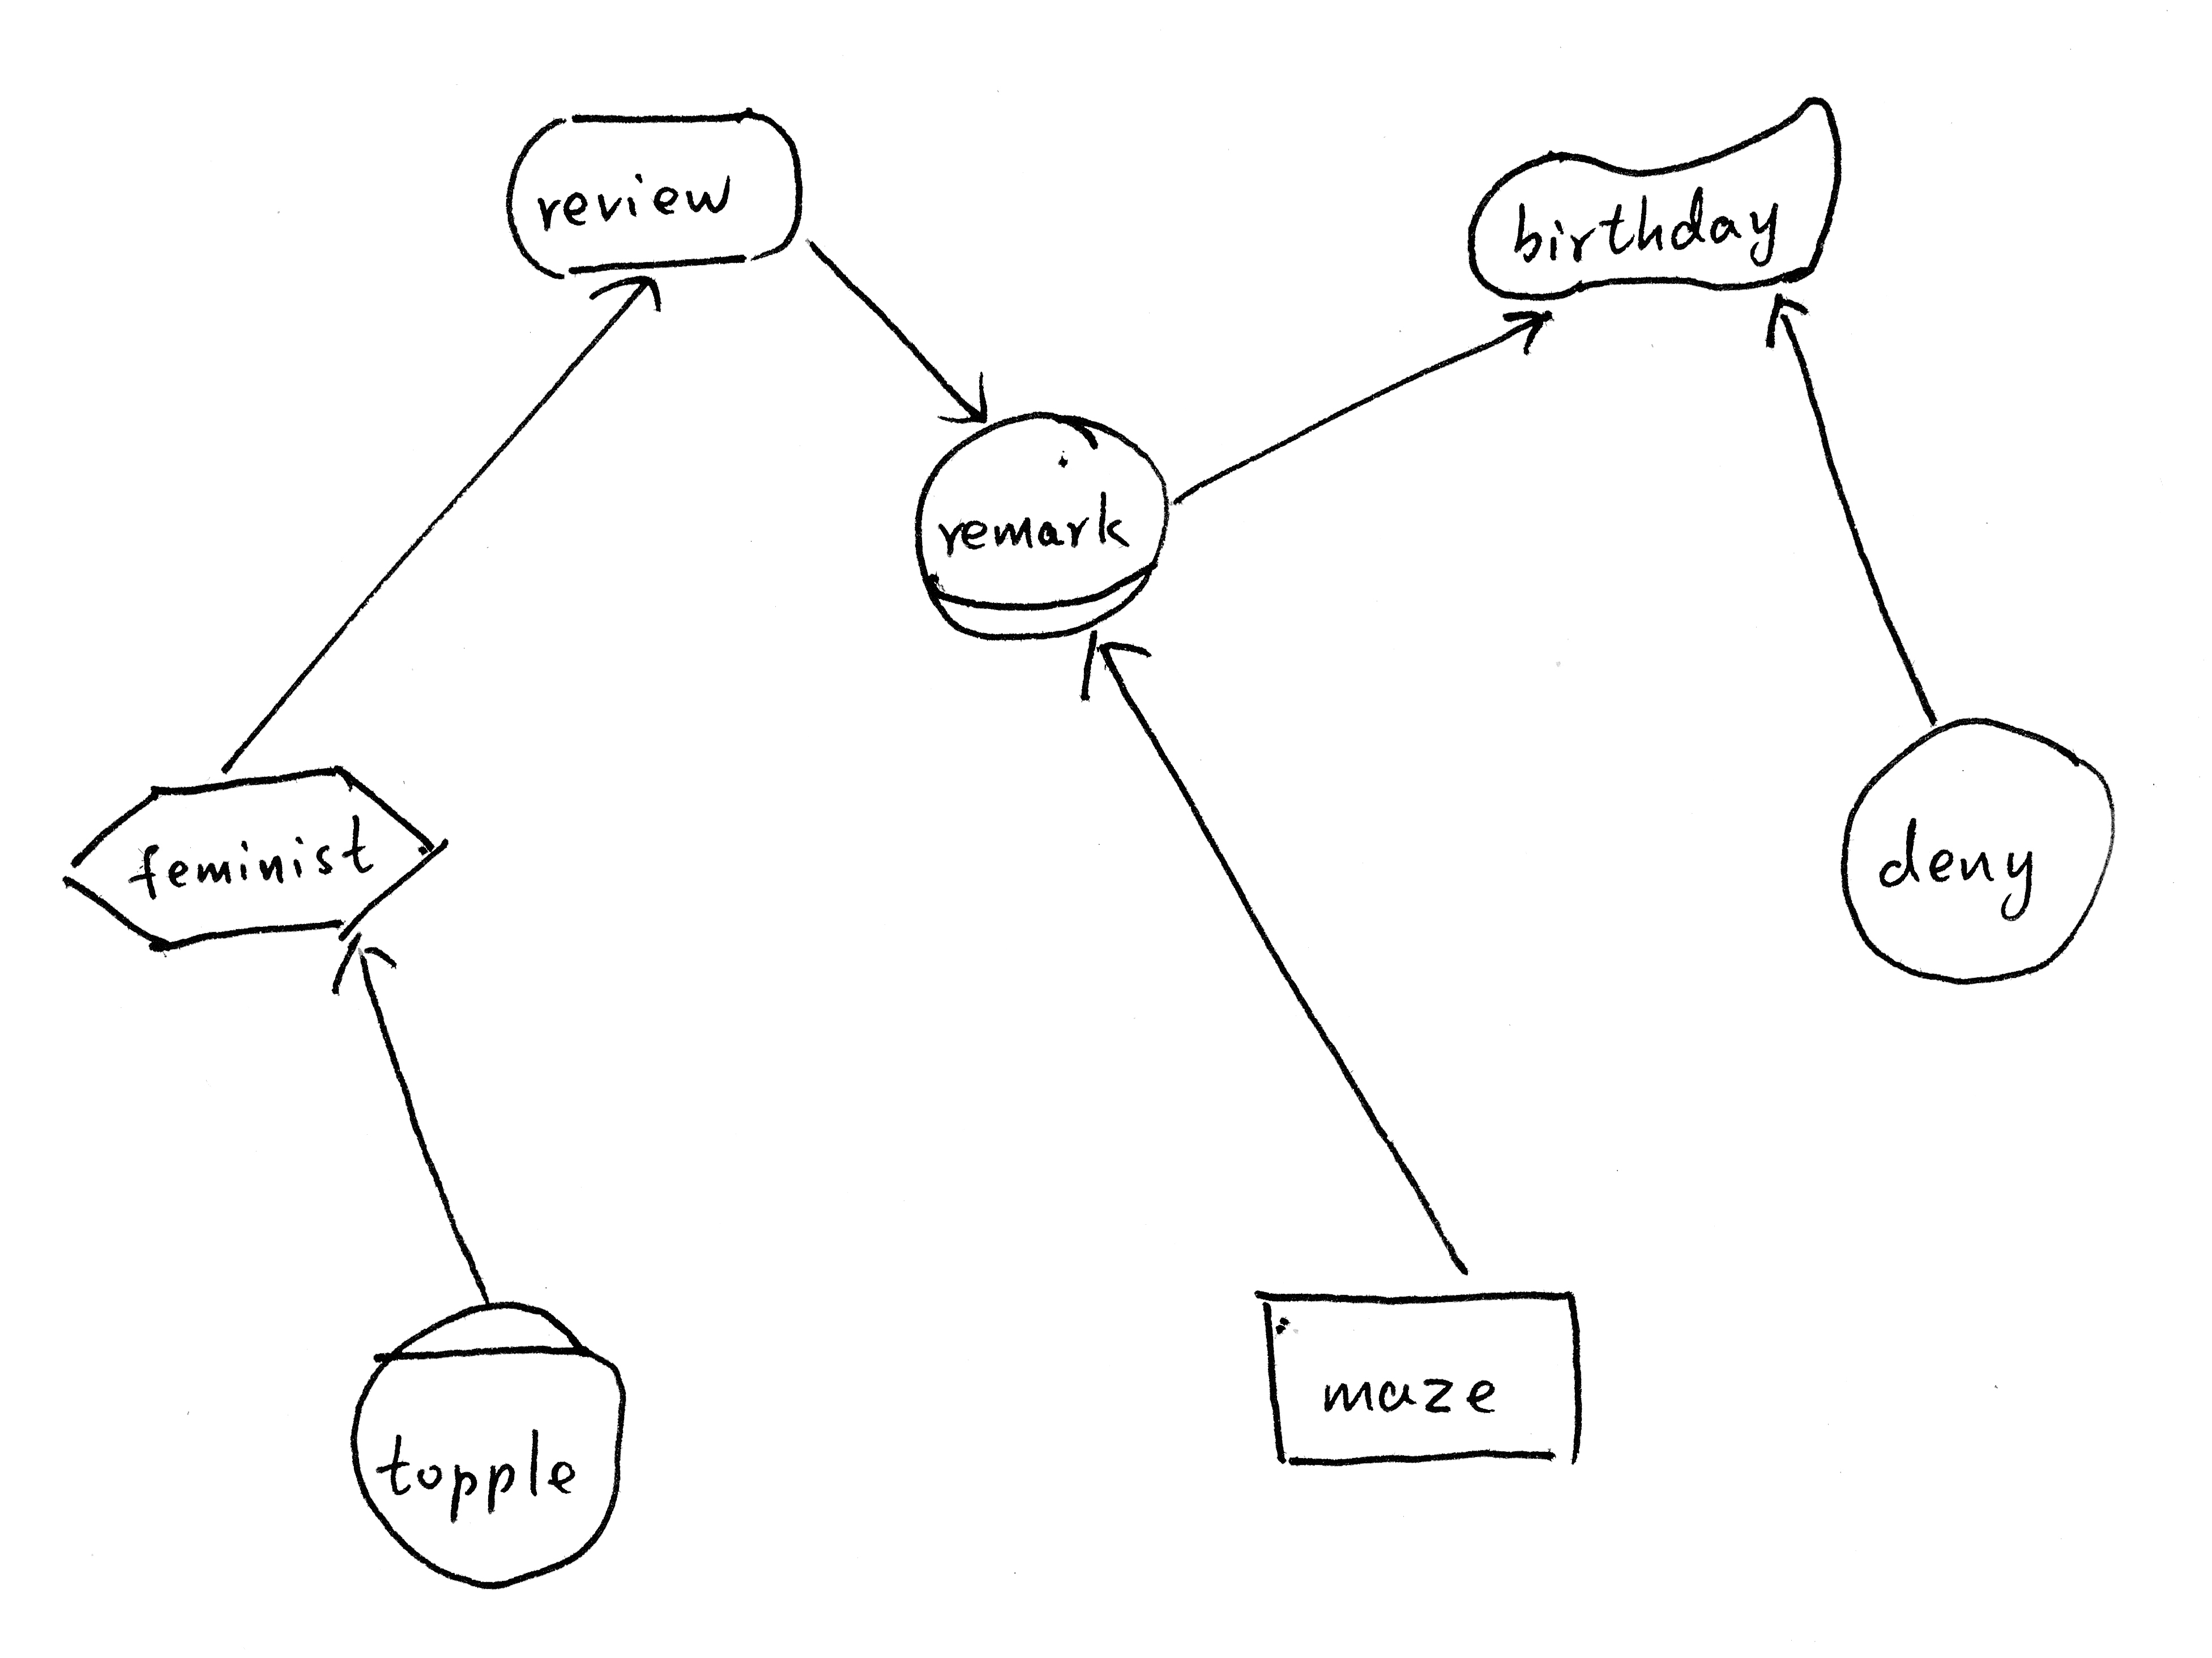actor: (1820, 704, 2132, 994)
agent: (336, 1284, 650, 1613)
arrow: (1052, 620, 1160, 716), (315, 916, 404, 1014), (921, 364, 1021, 444), (1749, 275, 1834, 357), (573, 263, 678, 327), (1496, 287, 1571, 371)
goal: (493, 91, 826, 287)
quality: (1454, 77, 1853, 312)
resource: (1233, 1268, 1604, 1493)
role: (895, 390, 1186, 667)
task: (42, 752, 463, 967)
